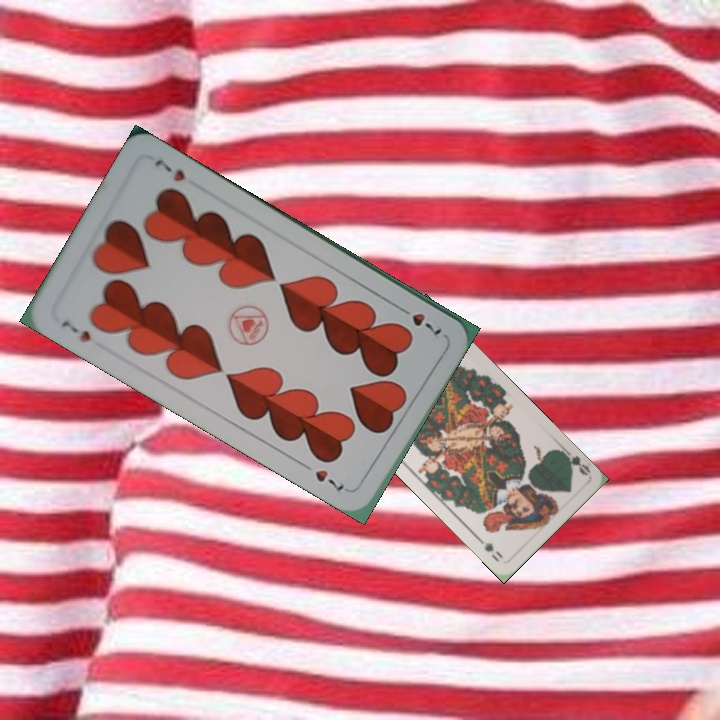GO: (556, 444, 593, 478)
H7: (393, 302, 445, 341), (57, 316, 94, 346)
